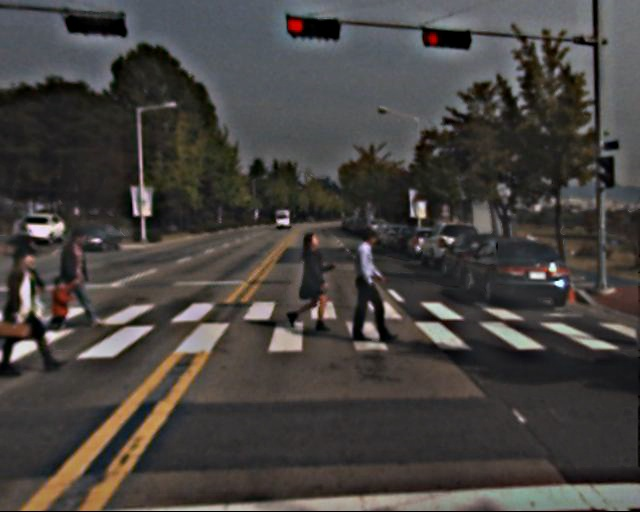person: (9, 250, 59, 372), (348, 230, 395, 344), (58, 223, 101, 328), (292, 229, 335, 334)
